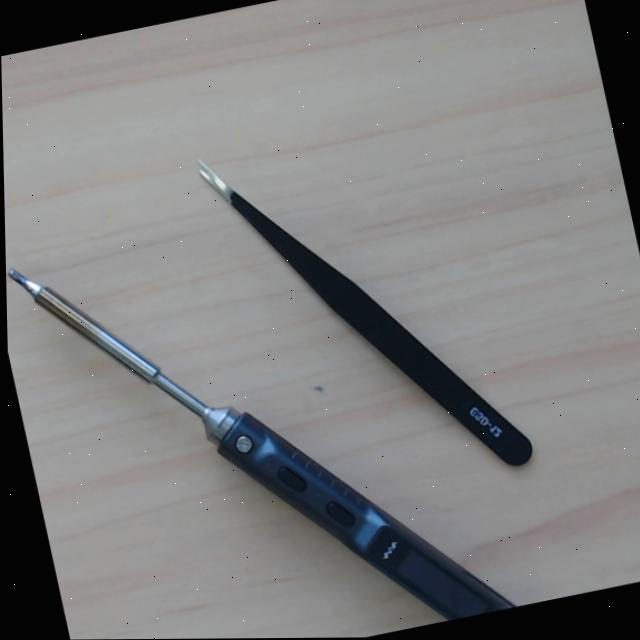Soldering-Iron: (0, 252, 517, 640)
Tweezers: (186, 153, 539, 475)
